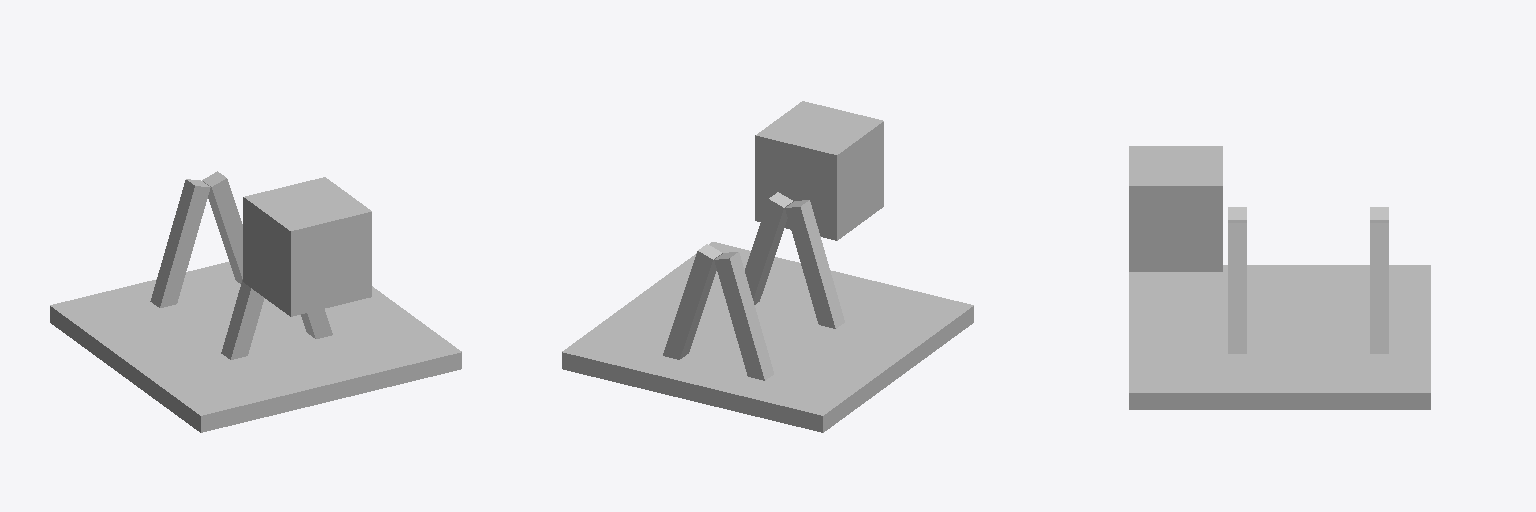
File: windmill_generator.obj
The picture shows the model from 3 angles: view 1: azimuth 30°, elevation 25°; view 2: azimuth 150°, elevation 25°; view 3: azimuth 270°, elevation 25°; orthographic projection.
Parts seen in each view (by area): view 1: windmill_generator; view 2: windmill_generator; view 3: windmill_generator.
Boxes of the visible parts, x1=… form: windmill_generator: x1=50, y1=171, x2=461, y2=432; windmill_generator: x1=562, y1=101, x2=973, y2=432; windmill_generator: x1=1129, y1=146, x2=1430, y2=409.
Bounding box in the file's own units: 1 × 0.6562 × 1.